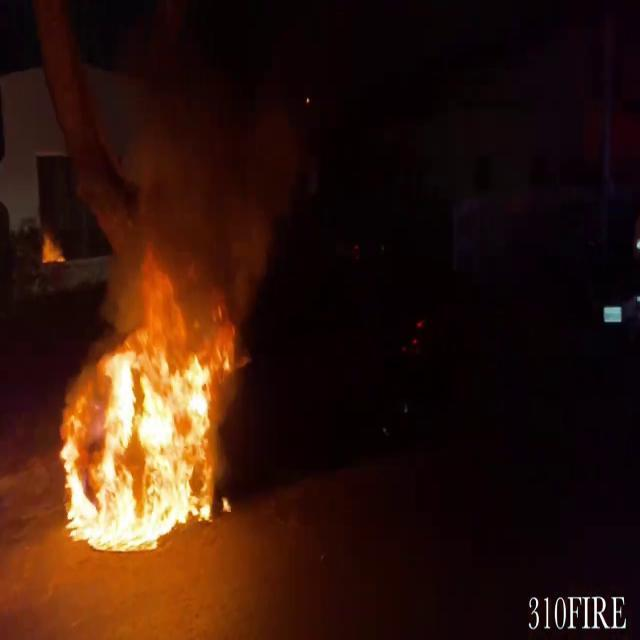Fire: (52, 317, 235, 557)
Smoke: (96, 29, 306, 328)
